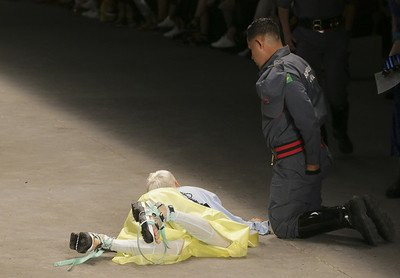10+: (66, 3, 398, 268)
down: (67, 158, 270, 266)
